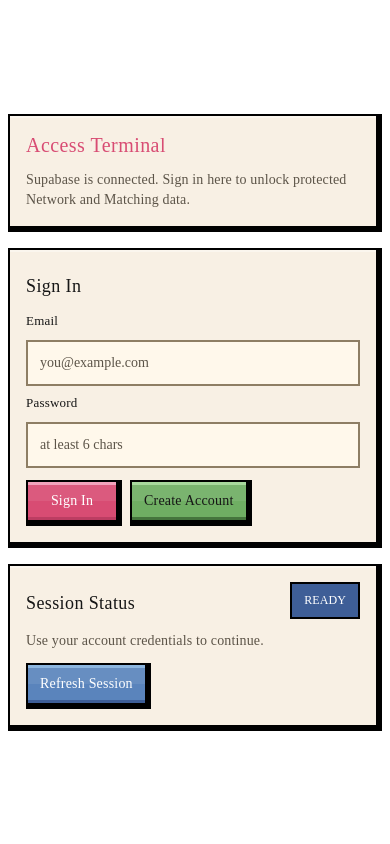
AuthRequiredView › submits normalized email on successful sign-in
Type "  USER@Example.com " into the field with placeholder "you@example.com" at (193,362), box left=26, top=340, right=360, bottom=386
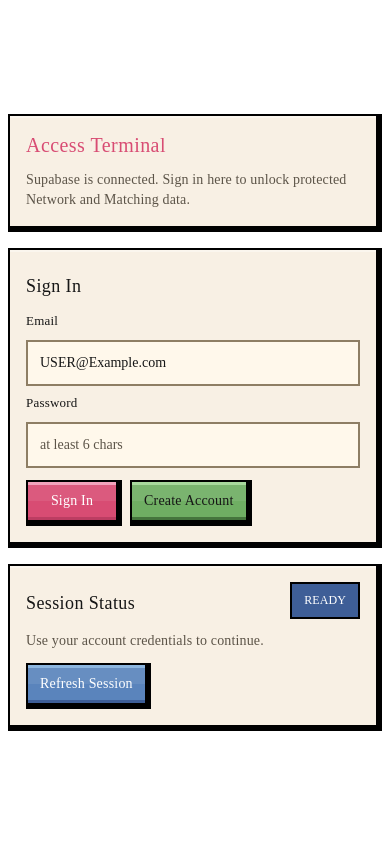
Type "123456" into the password field with placeholder "at least 6 chars" at (193,444), box left=26, top=422, right=360, bottom=468
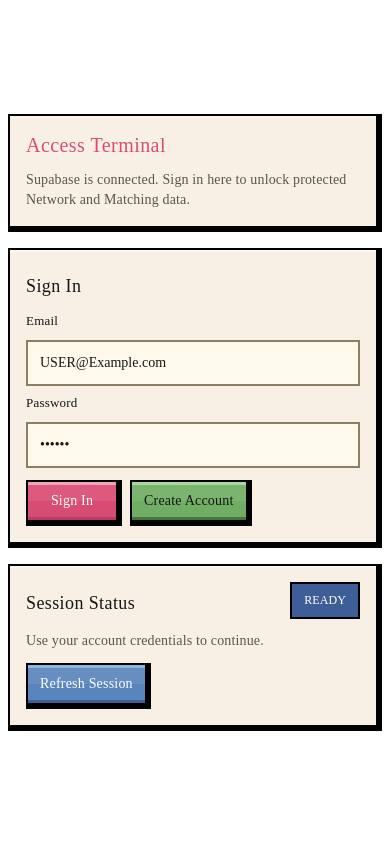
Click the button with test id "auth-signin" at (74,502), box left=26, top=480, right=122, bottom=526
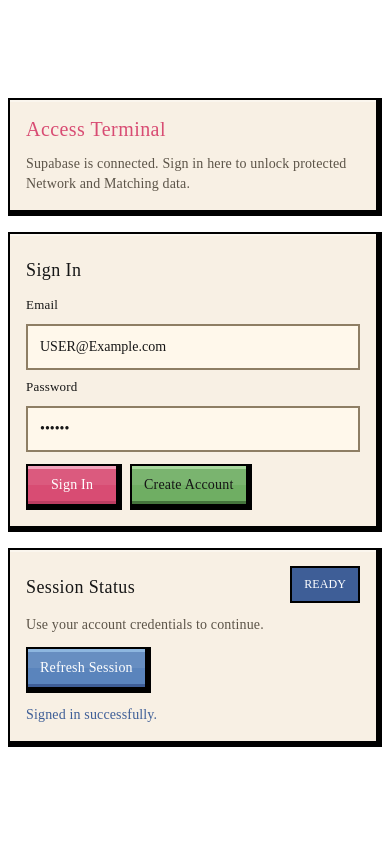
Expected: the text "Signed in successfully." is shown, left=26, top=706, right=157, bottom=722
